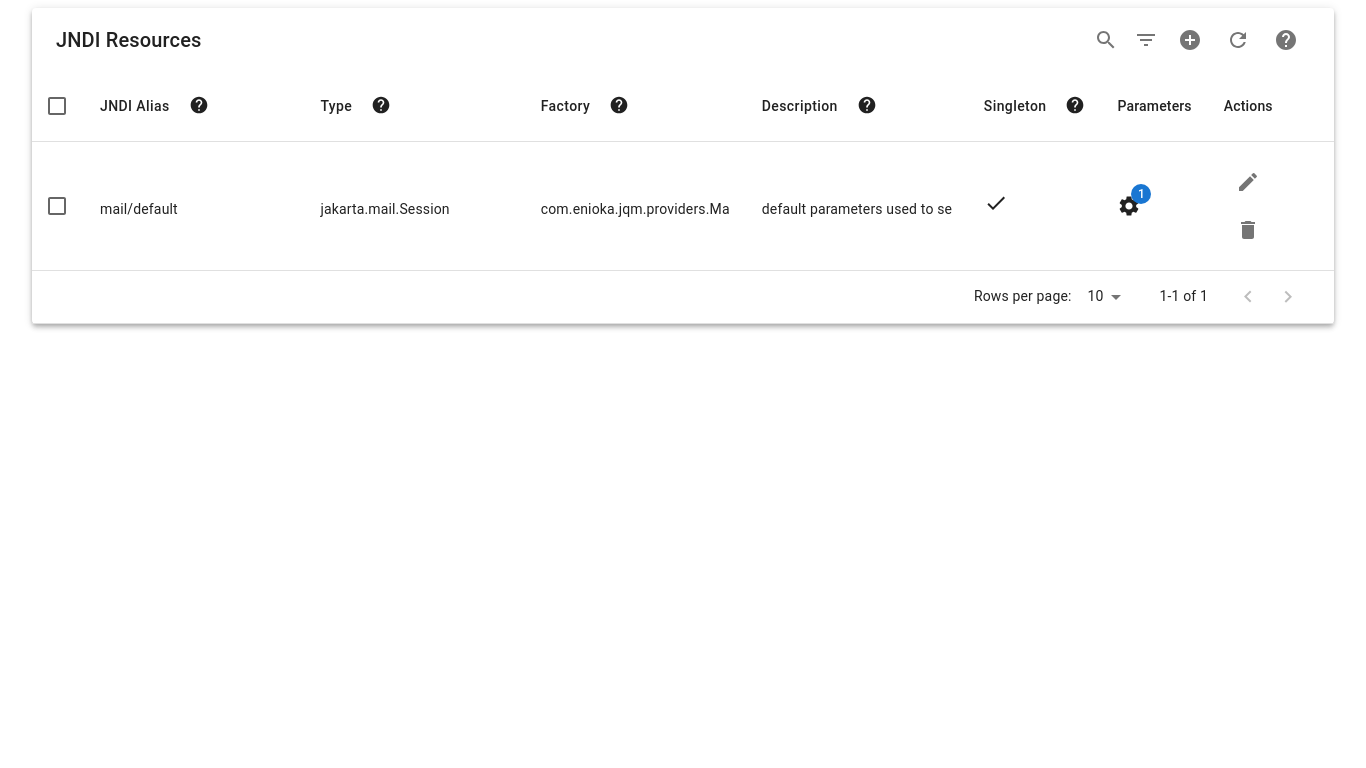
Test case: JndiPage › opens the view parameters dialog
The width and height of the screenshot is (1366, 768).
Expected: the 1st field showing "mail/default" is shown, [100, 195, 288, 224]
Click the icon with test id "SettingsIcon": (1130, 206) [1118, 194, 1142, 218]
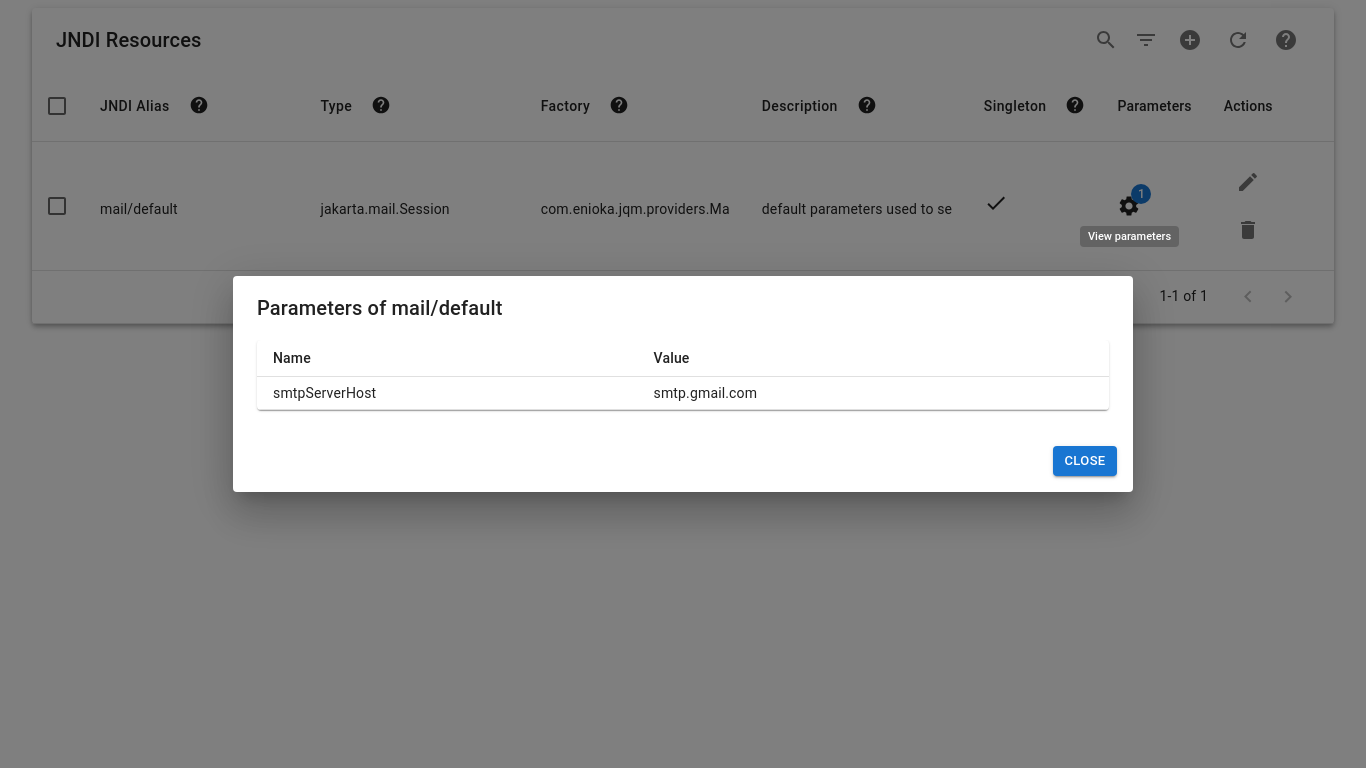
Expected: the heading "Parameters of mail/default" is shown, [257, 296, 503, 320]
Expected: the column heading "smtpServerHost" is shown, [257, 376, 638, 409]
Expected: the text "smtp.gmail.com" is shown, [638, 376, 1019, 409]
